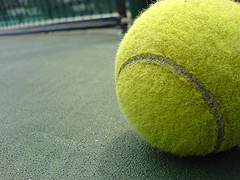tennis ball: (115, 1, 239, 157)
